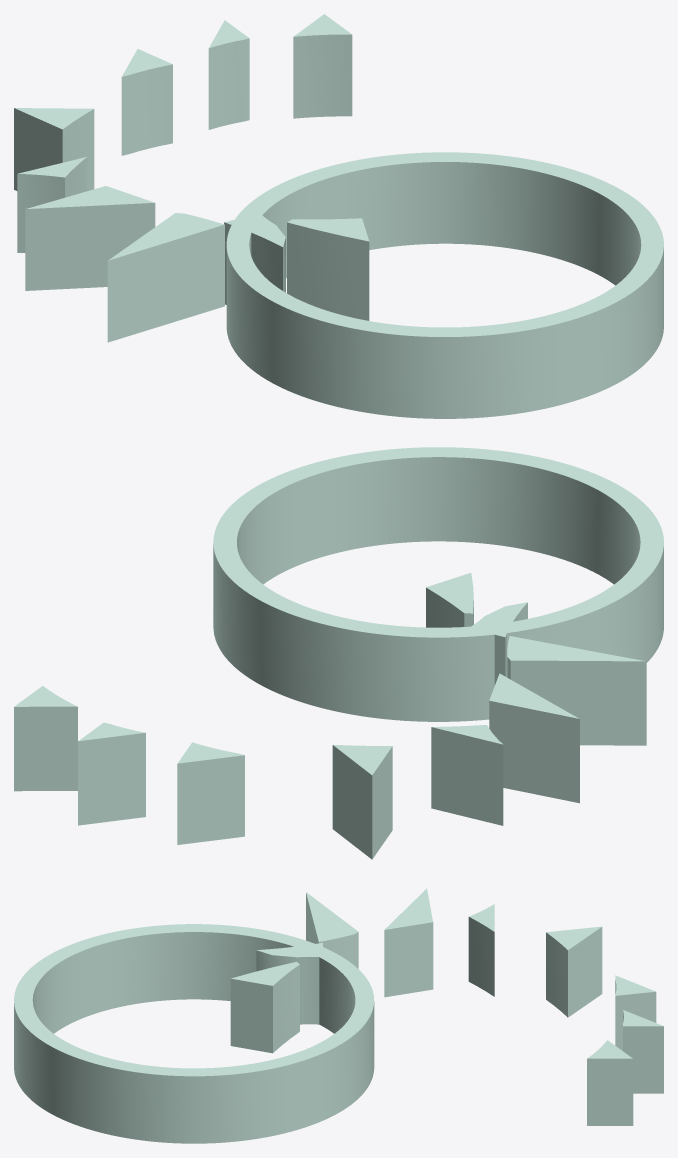
3 views of the same model, one above another, from view 1: azimuth 30°, elevation 25°; view 2: azimuth 150°, elevation 25°; view 3: azimuth 270°, elevation 25° (orthographic). The views are drawn at different scales.
Visible parts, largest first — view 1: Renderer Node; view 2: Renderer Node; view 3: Renderer Node.
Part boxes in pixels (left/top/right/bottom): Renderer Node: left=14, top=14, right=663, bottom=418; Renderer Node: left=14, top=447, right=663, bottom=859; Renderer Node: left=14, top=888, right=663, bottom=1143.
Bounding box in the file's own units: 1.36 × 0.2266 × 1.98.
